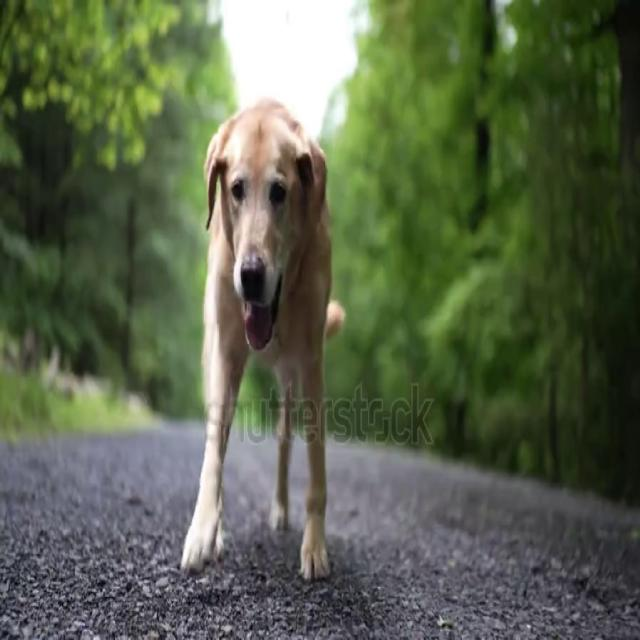normal_animals: (177, 94, 347, 586)
